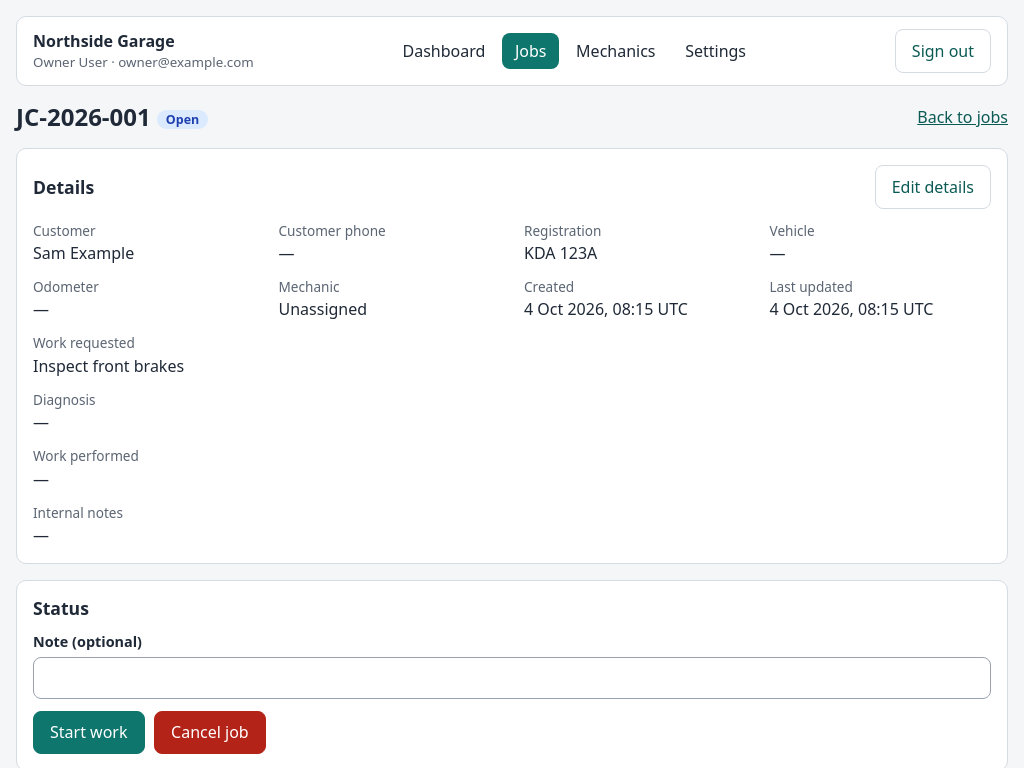
Test: GOSSA owner app › reloads the latest version and explains a stale (412) update
Click the button "Start work" at (89, 732), box x1=33 y1=710 x2=144 y2=754
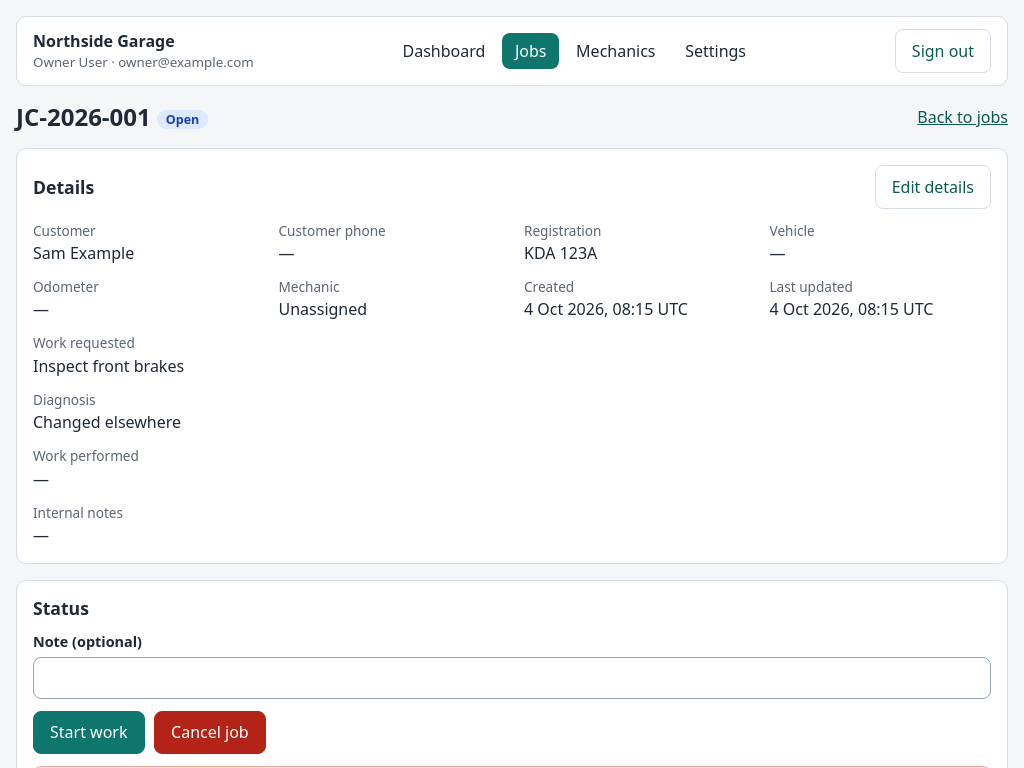
Check: the text "Changed elsewhere" is shown, box x1=33 y1=411 x2=181 y2=433
